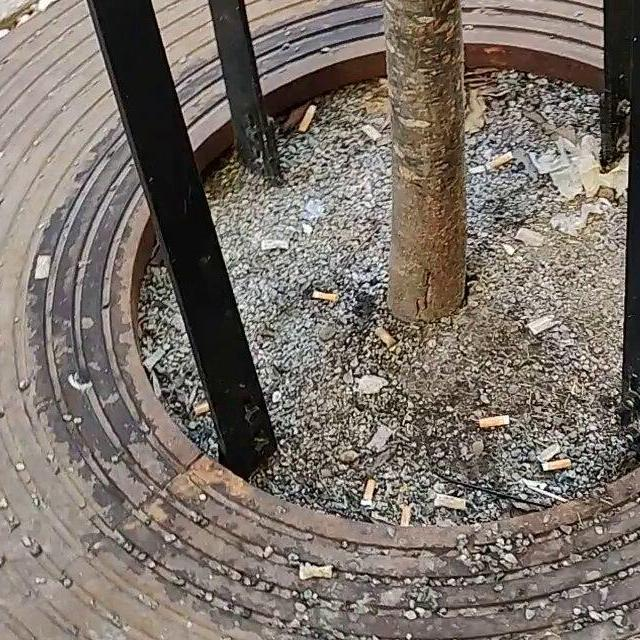Cigarette Butt: (484, 148, 522, 178), (295, 101, 322, 139), (429, 495, 474, 515), (535, 455, 577, 473), (478, 414, 511, 434), (305, 285, 338, 305), (373, 318, 396, 344), (362, 474, 379, 509), (394, 507, 412, 530)
